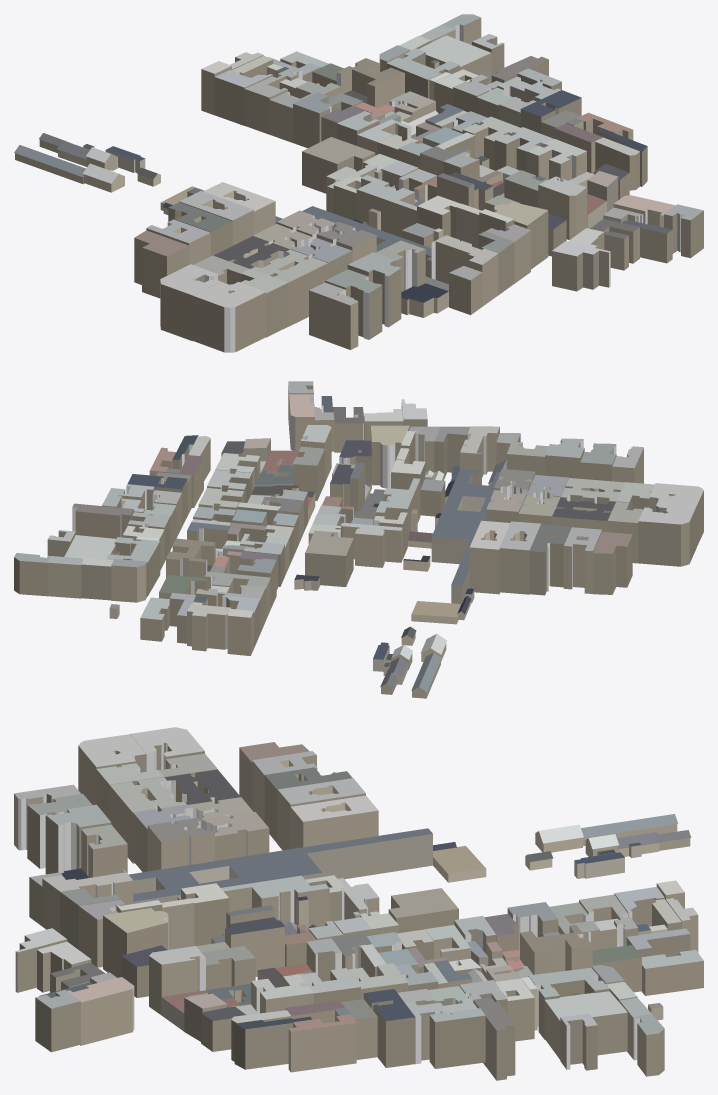
The picture shows the model from 3 angles, top to bottom: view 1: azimuth 30°, elevation 25°; view 2: azimuth 150°, elevation 25°; view 3: azimuth 270°, elevation 25°; orthographic projection. The views are drawn at different scales.
Visible parts, largest first — view 1: tuile; view 2: tuile; view 3: tuile.
Boxes of the visible parts, bbox=[...] form: tuile: bbox=[14, 14, 703, 352]; tuile: bbox=[14, 381, 703, 698]; tuile: bbox=[14, 727, 703, 1080].
Size of the model in its own units: 272 by 30.29 by 268.
